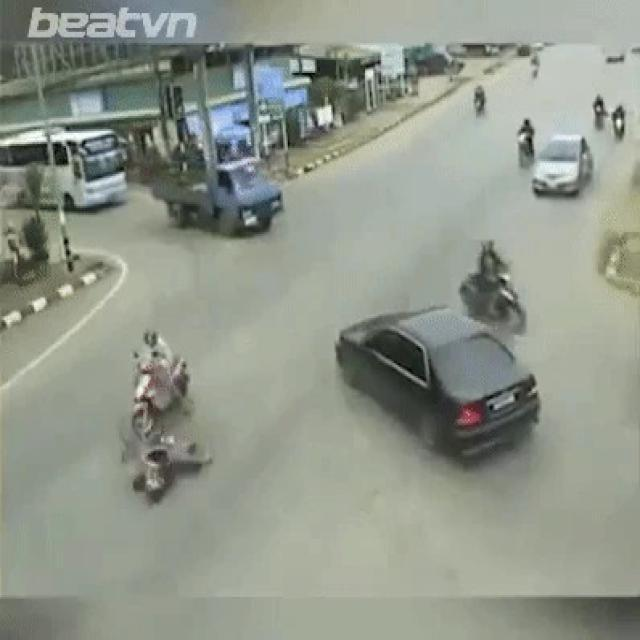multiple_accident: (116, 320, 219, 511)
normal: (301, 231, 587, 487), (134, 123, 311, 264), (0, 93, 134, 241), (510, 110, 601, 206), (587, 76, 633, 154), (447, 69, 497, 127)
